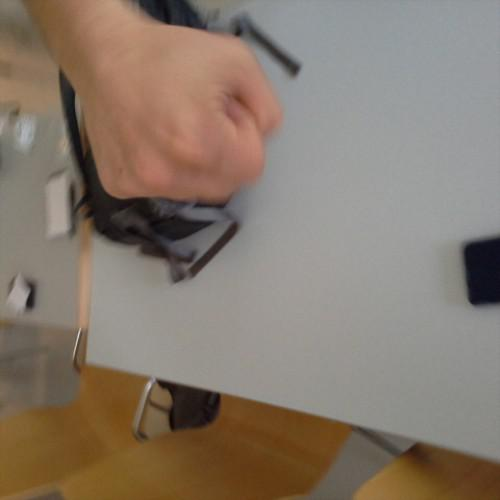rock: (67, 19, 290, 211)
